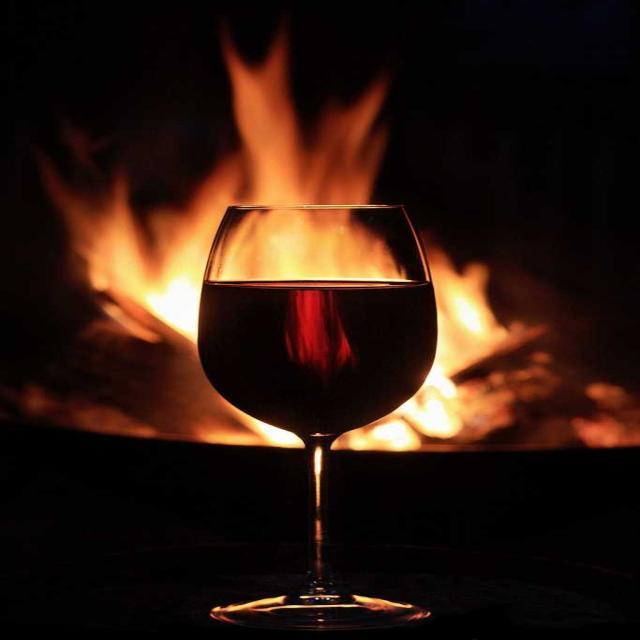Fire: (210, 23, 393, 198), (68, 166, 198, 347), (438, 248, 546, 442)
